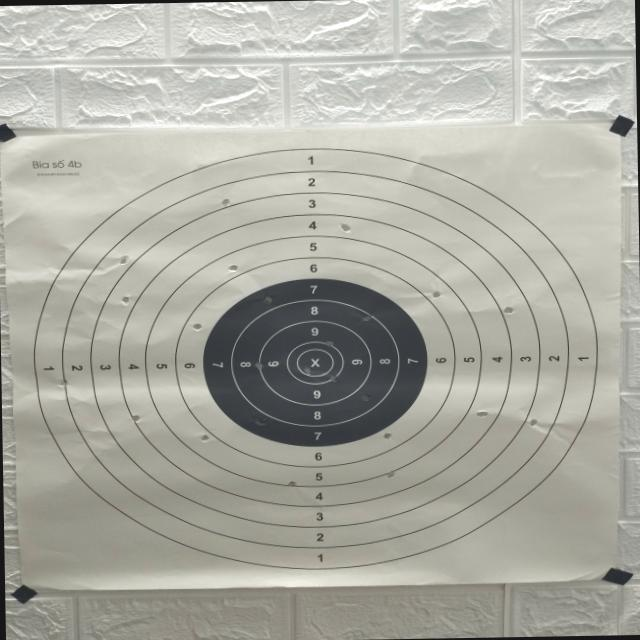bullet: (340, 223, 351, 232), (121, 295, 130, 305), (254, 418, 266, 425), (120, 255, 129, 264), (200, 434, 209, 442), (228, 264, 237, 272), (221, 198, 230, 206), (361, 393, 370, 401), (431, 290, 441, 297), (255, 361, 262, 371), (476, 410, 487, 416), (131, 414, 139, 422), (264, 295, 272, 303), (193, 323, 202, 330), (385, 471, 394, 478), (530, 418, 537, 426), (303, 367, 311, 374), (57, 380, 66, 386), (504, 307, 513, 313), (362, 314, 371, 320), (287, 481, 295, 486), (383, 433, 391, 438), (330, 375, 336, 381), (326, 340, 333, 345)
target: (2, 124, 619, 589)
